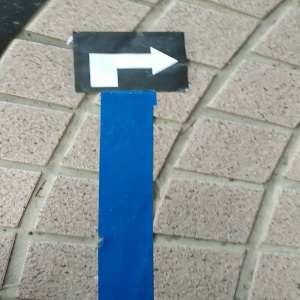right: (72, 32, 188, 90)
